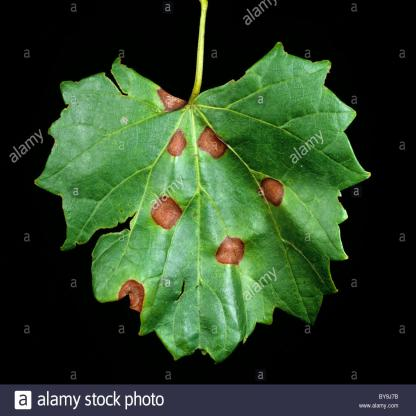grape leaf black rot: (33, 34, 375, 368)
